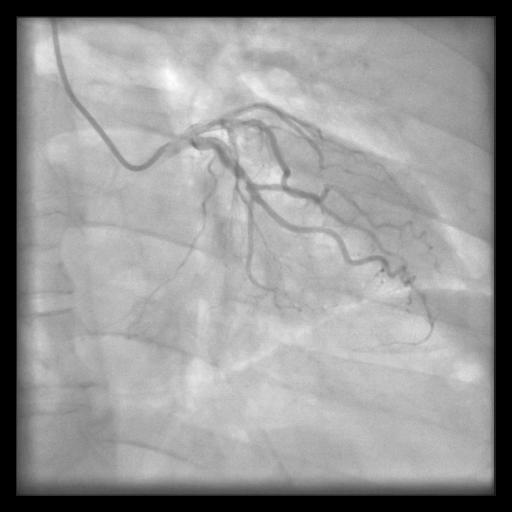Stenosis: (242, 169, 248, 187)
